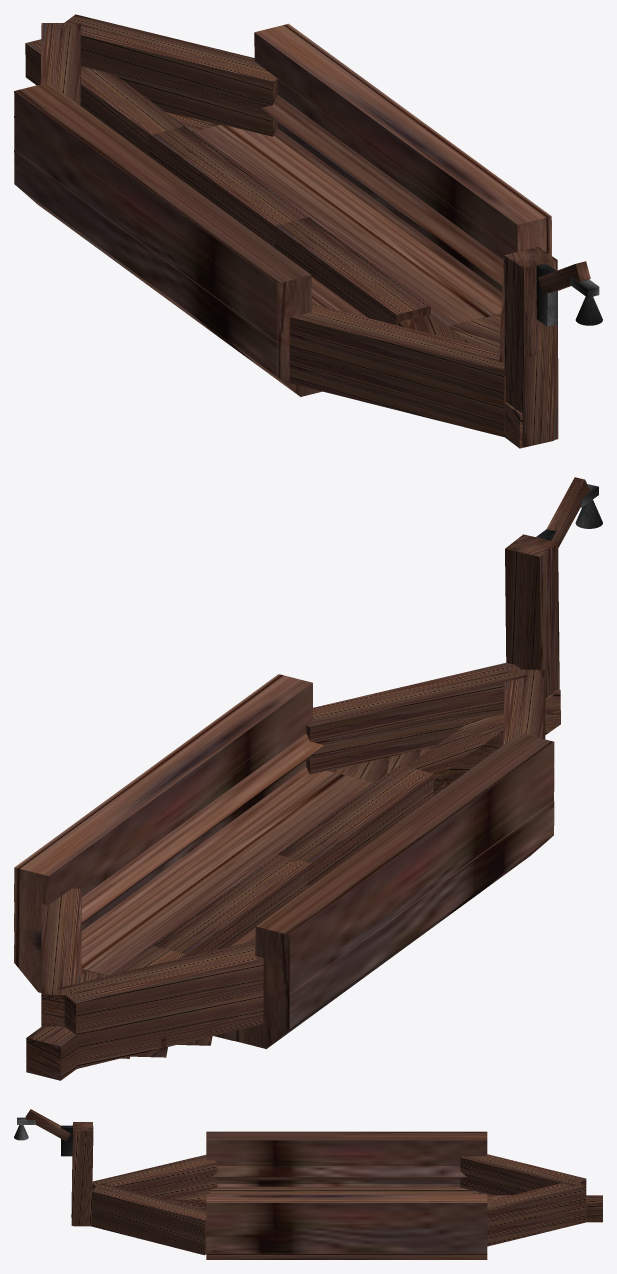
The model's file is boatBlender.fbx.
The picture shows the model from 3 angles, top to bottom: view 1: azimuth 30°, elevation 25°; view 2: azimuth 150°, elevation 25°; view 3: azimuth 270°, elevation 25°; orthographic projection. The views are drawn at different scales.
Parts seen in each view (by area): view 1: Cube.012, Cube.003, Cube.005, Cube.004, Cube.001, Cube; view 2: Cube.012, Cube.003, Cube.005, Cube.004, Cube.001; view 3: Cube.012, Cube.003, Cube.001, Cube.
Part boxes in pixels (x1,y1,x2,y2): Cube.012: (14, 23, 551, 396); Cube.003: (25, 14, 558, 448); Cube.005: (271, 217, 430, 325); Cube.004: (149, 126, 308, 247); Cube.001: (538, 261, 590, 294); Cube: (536, 263, 557, 326); Cube.012: (14, 674, 554, 1049); Cube.003: (26, 534, 560, 1080); Cube.005: (277, 765, 433, 886); Cube.004: (152, 854, 310, 957); Cube.001: (546, 477, 589, 547); Cube.012: (206, 1131, 487, 1259); Cube.003: (71, 1122, 602, 1255); Cube.001: (25, 1109, 70, 1141); Cube: (61, 1125, 72, 1156).
Bounding box in the file's own units: 483 × 381 × 1679.
